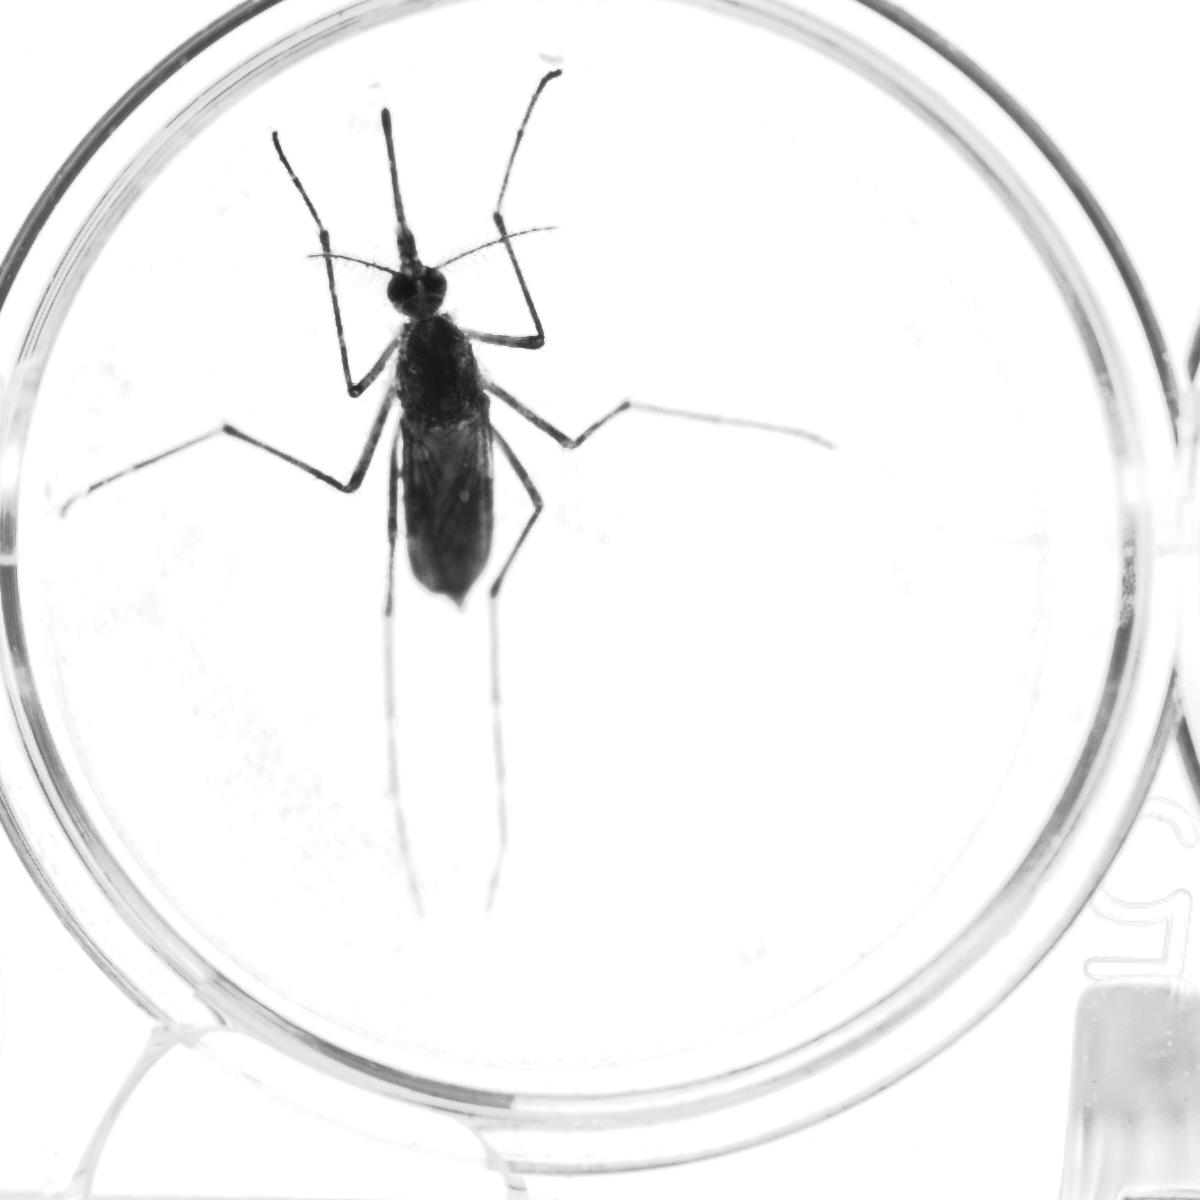f-a: (321, 101, 499, 298)
f-b: (253, 109, 666, 729)
f-c: (424, 579, 481, 622)
